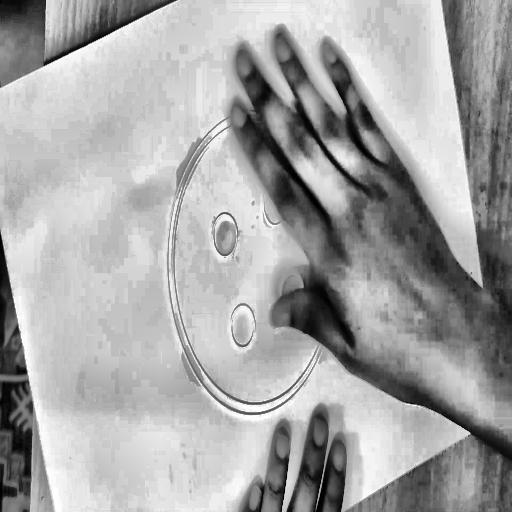bottom_right: (494, 402, 501, 413)
button: (124, 51, 393, 471)
